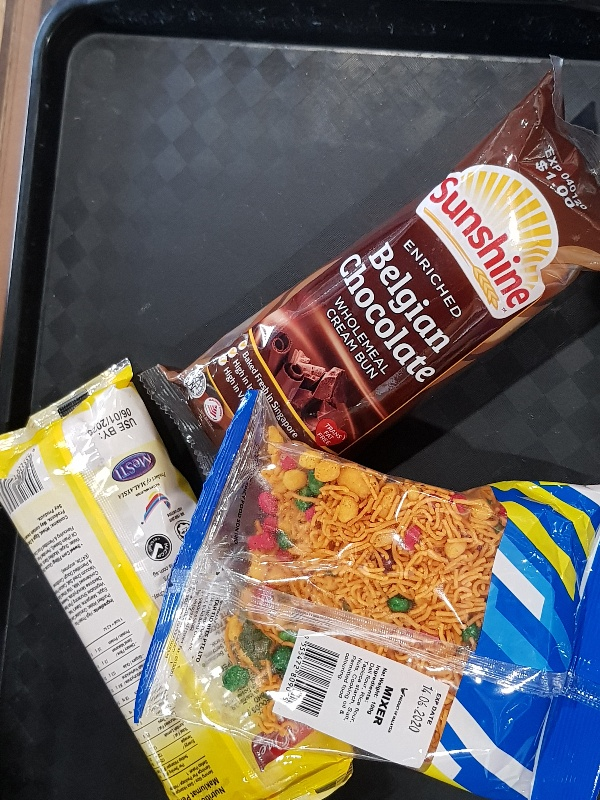Star Tidbits Mixer: (136, 388, 600, 798)
Sunshine Belgium Chocolate Wholemeal Cream Bun: (136, 63, 600, 481)
Tinges Roll Sweet Corn: (1, 355, 357, 800)
